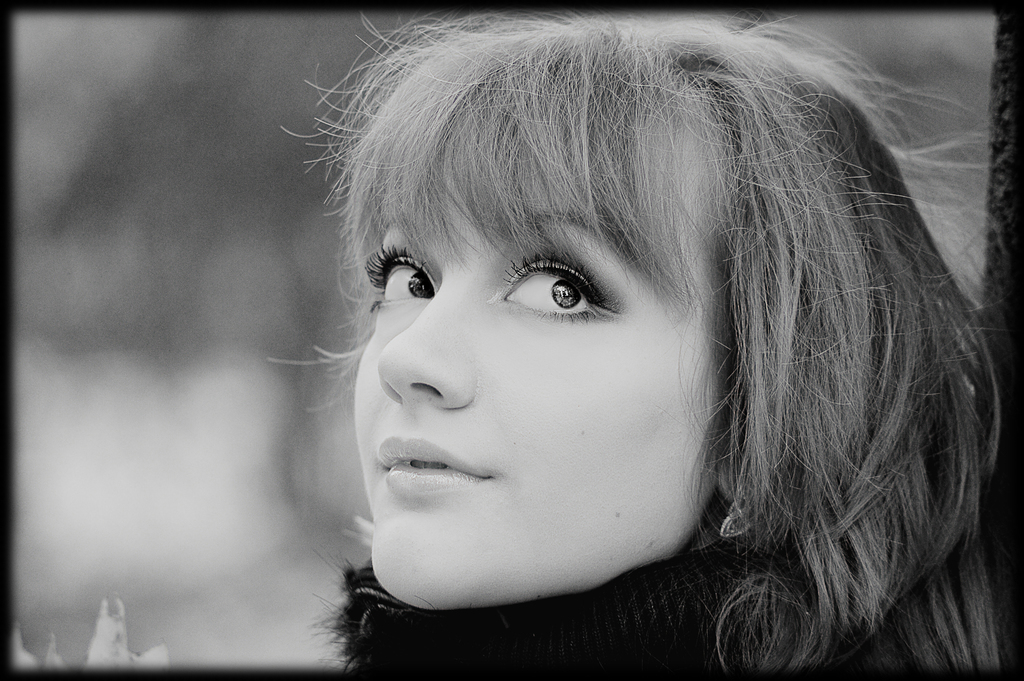Human-face: (341, 146, 721, 635)
